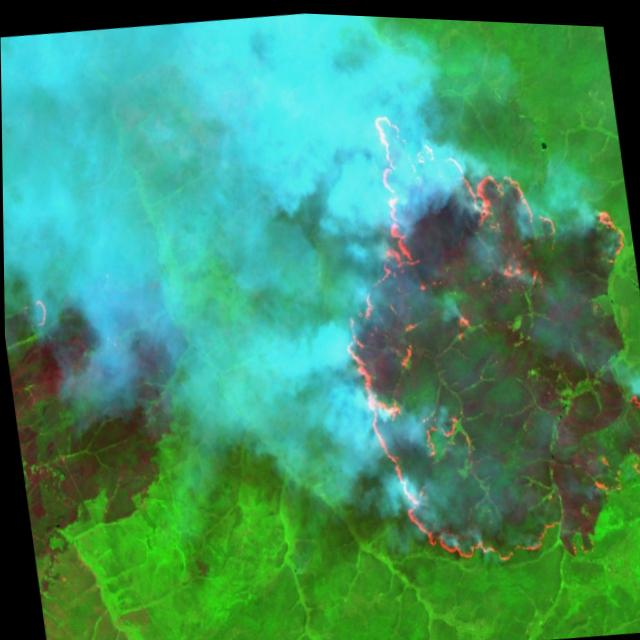fire: (301, 63, 640, 598), (12, 272, 64, 341)
